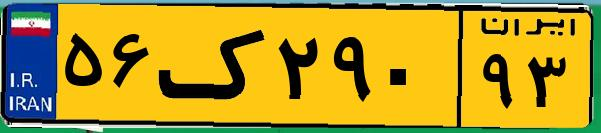0: (385, 28, 445, 110)
2: (270, 28, 330, 110)
3: (525, 38, 570, 115)
5: (57, 26, 110, 100)
6: (110, 28, 158, 98)
9: (330, 28, 385, 110), (475, 38, 525, 113)
ک: (158, 12, 270, 120)
